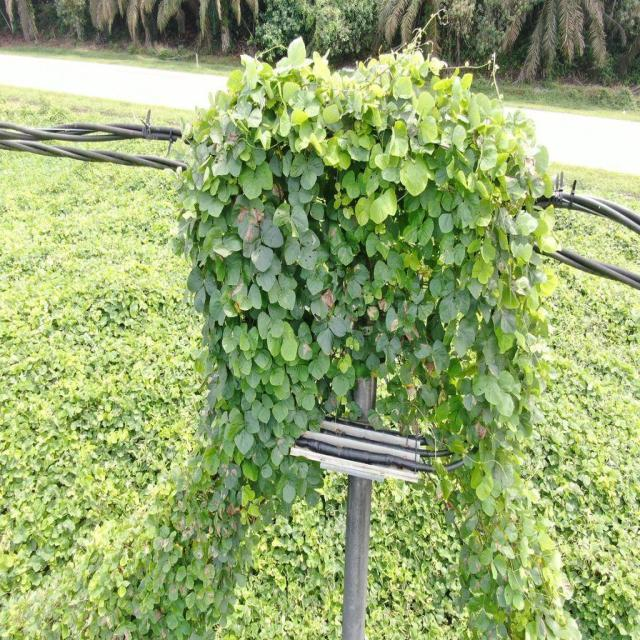critical vegetation: (61, 35, 562, 640)
